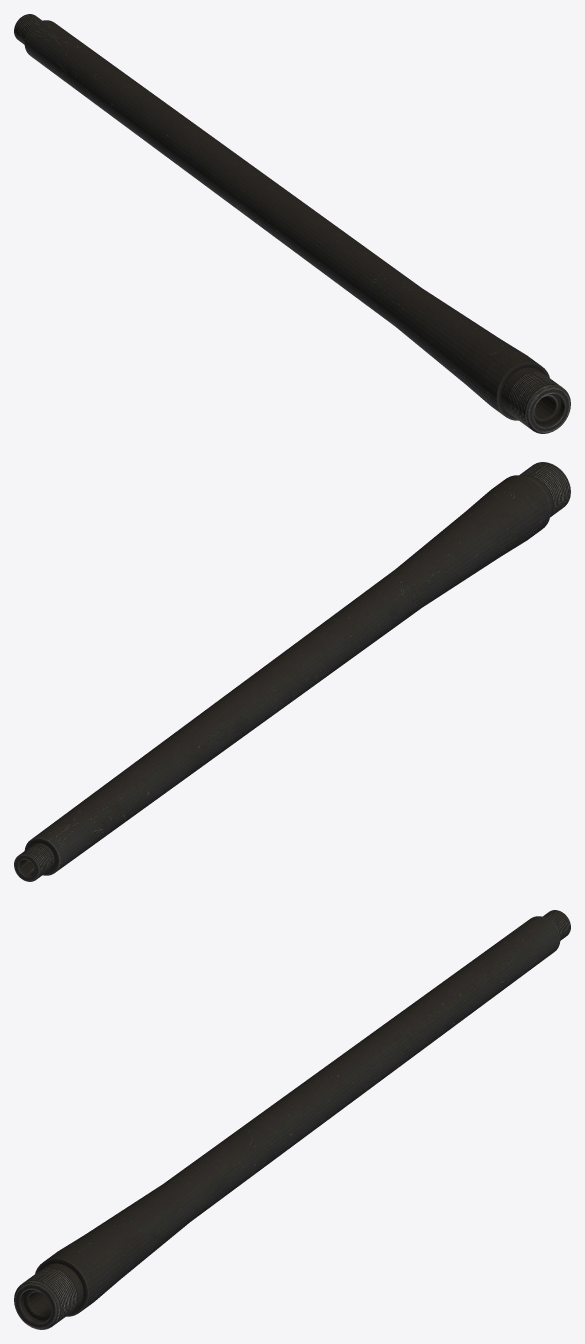
3 renders of one model, top to bottom at view 1: azimuth 30°, elevation 25°; view 2: azimuth 150°, elevation 25°; view 3: azimuth 330°, elevation 25°, orthographic.
Parts seen in each view (by area): view 1: TW_5bfebc320db8340019668d79_PZ_Import; view 2: TW_5bfebc320db8340019668d79_PZ_Import; view 3: TW_5bfebc320db8340019668d79_PZ_Import.
Part boxes in pixels (x1,y1,x2,y2): TW_5bfebc320db8340019668d79_PZ_Import: [14, 14, 570, 433]; TW_5bfebc320db8340019668d79_PZ_Import: [14, 462, 570, 881]; TW_5bfebc320db8340019668d79_PZ_Import: [14, 910, 570, 1329].
Size of the model in its own units: 0.0175 by 0.2936 by 0.0175.
Materials: 1 (1 with a texture image).
